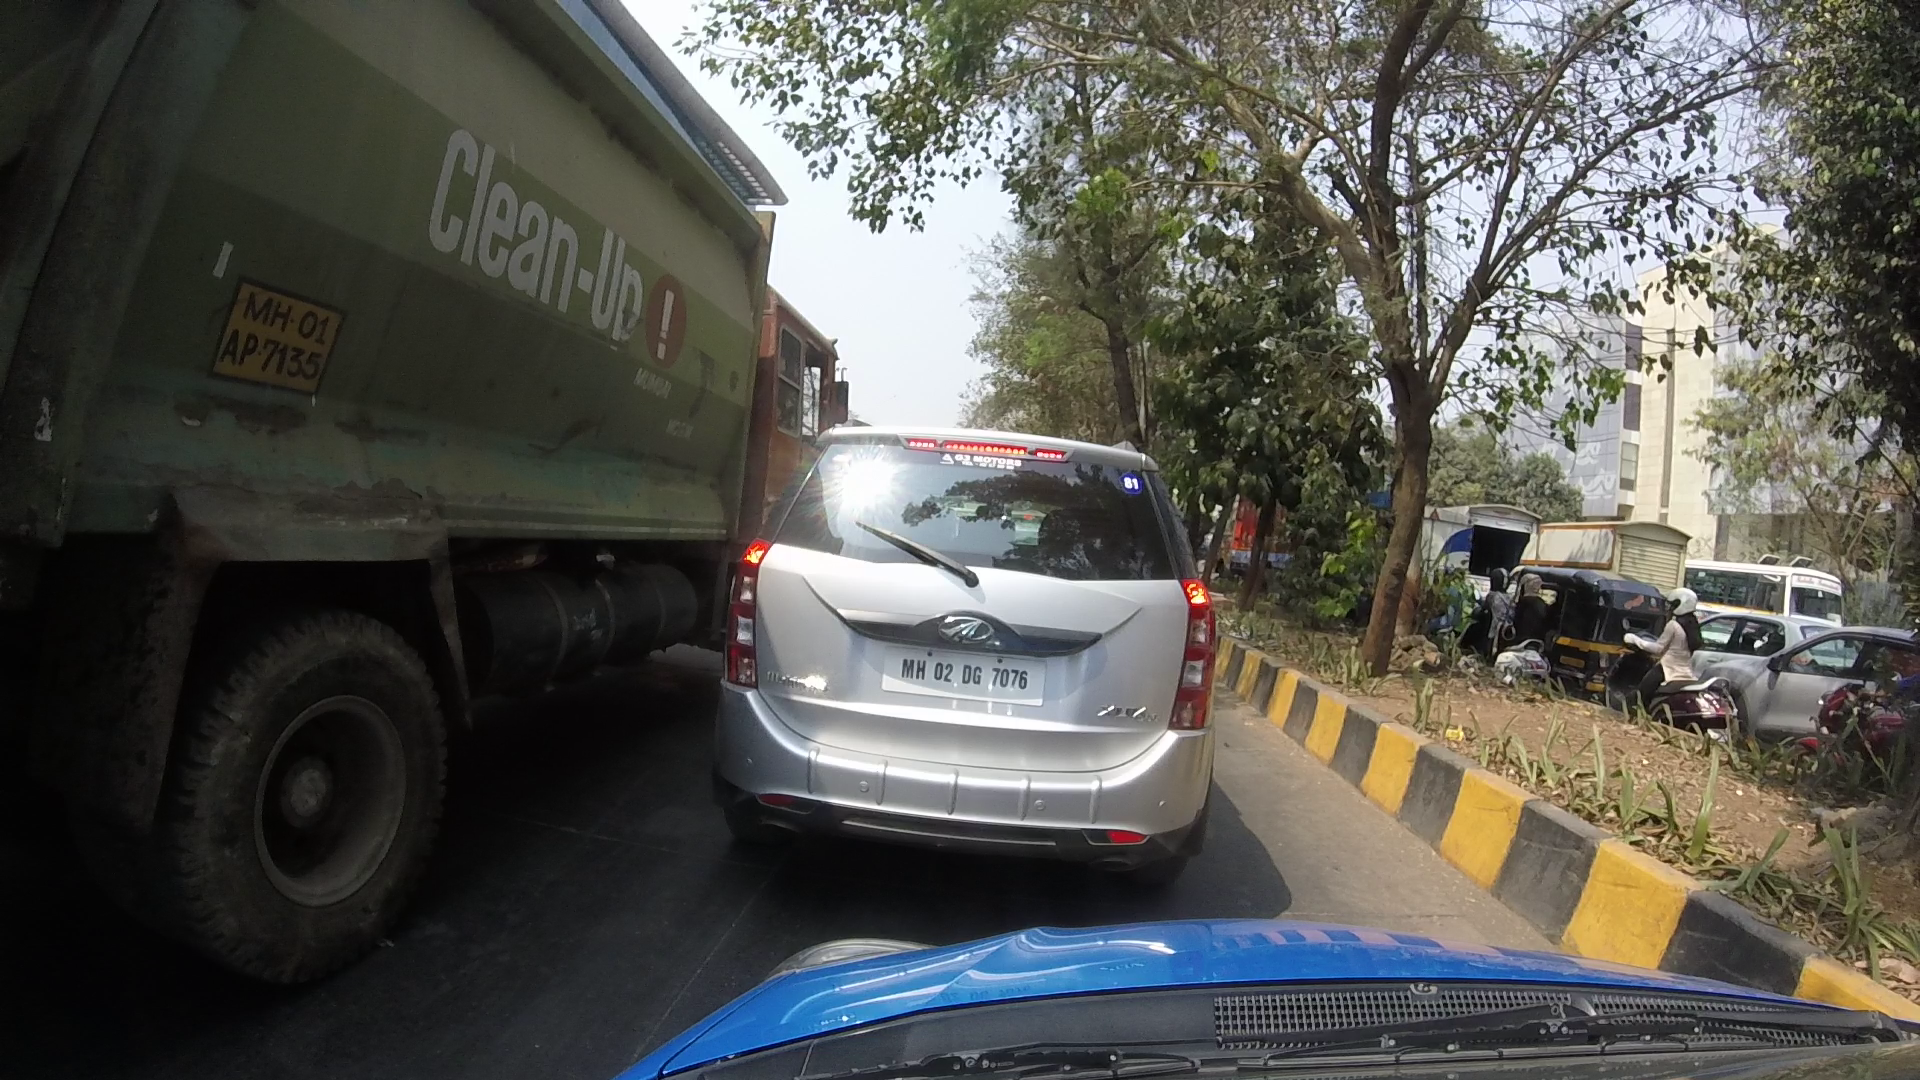car: (721, 367, 1240, 845)
truck: (1, 1, 829, 949)
